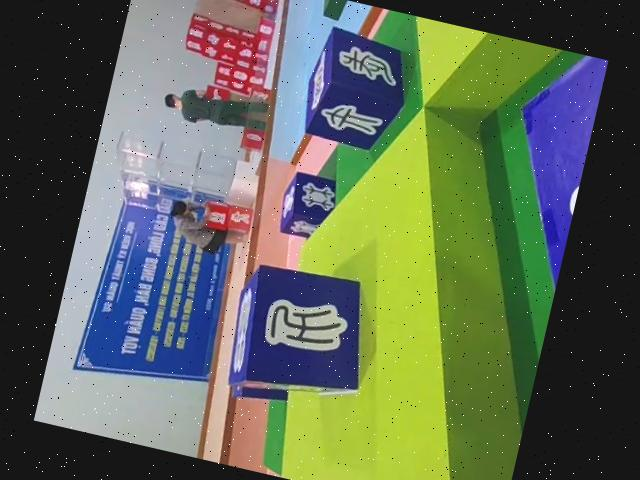R2 Fake Blue: (222, 258, 386, 415), (295, 26, 420, 161)
R2 Real Blue: (274, 168, 341, 243)
